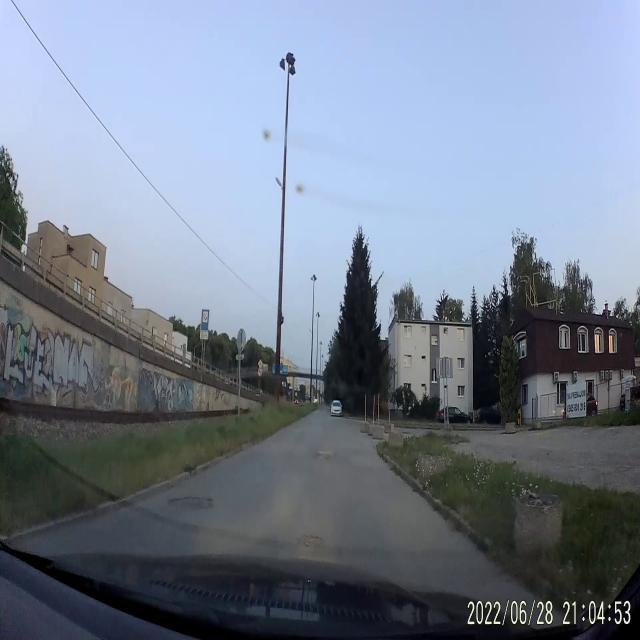Pothole: (168, 492, 214, 514), (296, 528, 326, 553), (312, 446, 336, 464)
